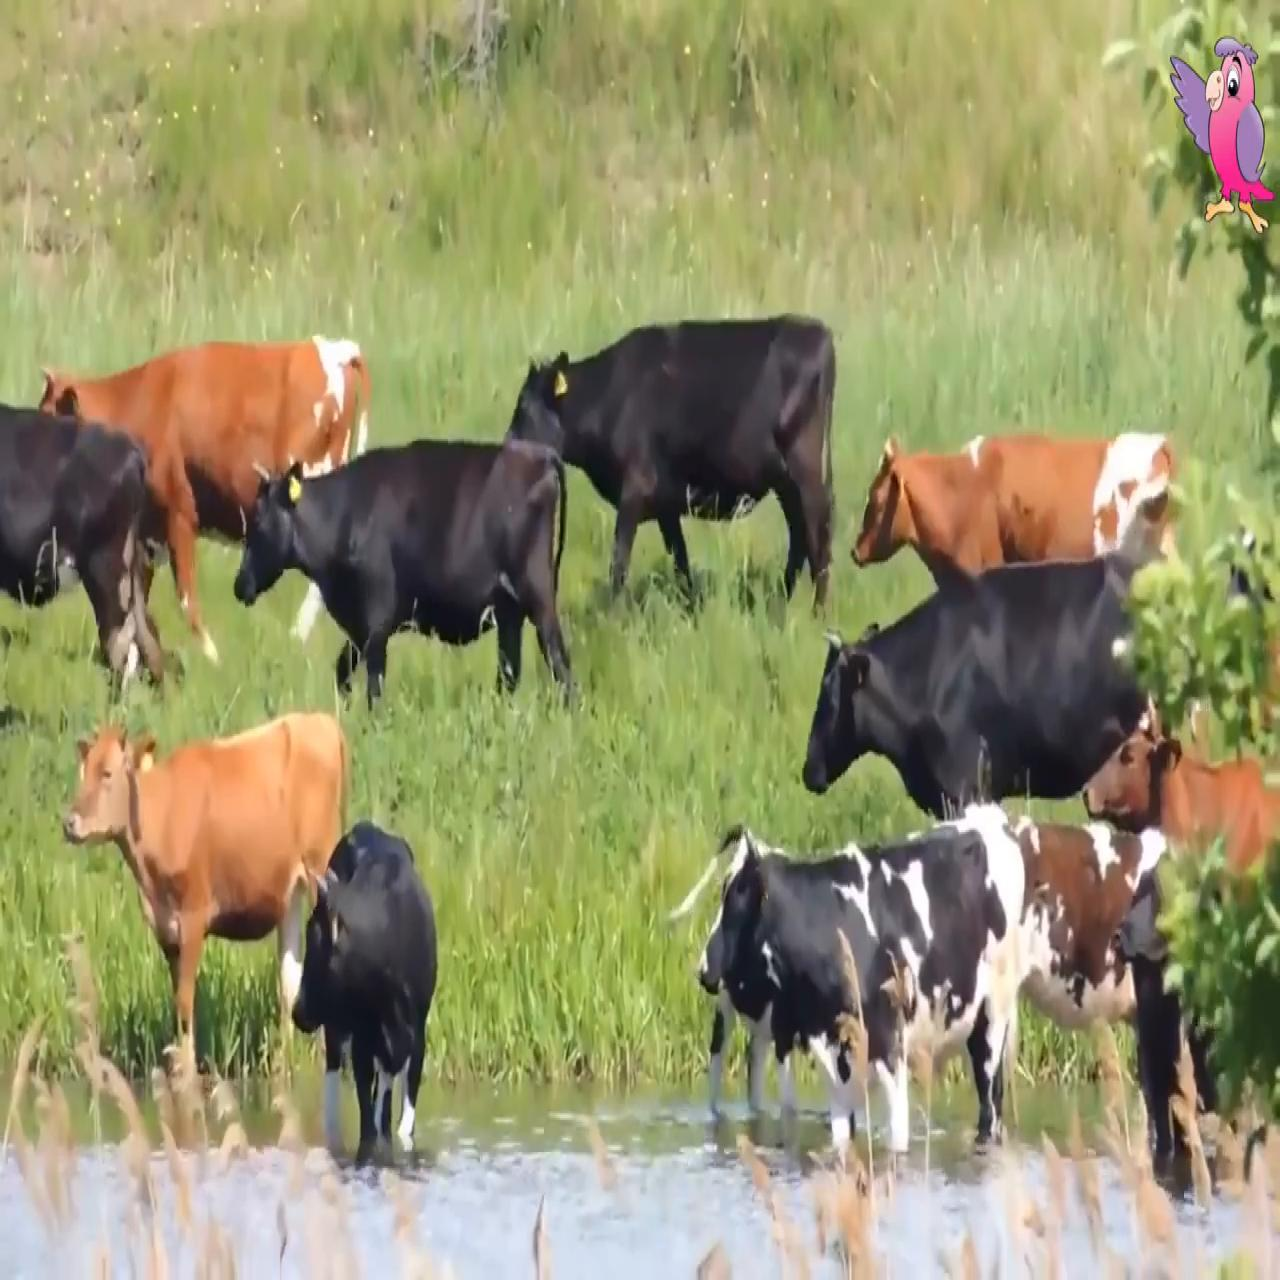cow: (669, 776, 1033, 1159), (872, 734, 1219, 1105), (41, 343, 374, 658), (64, 709, 350, 1055), (506, 314, 835, 607), (230, 435, 578, 704), (803, 565, 1153, 813), (852, 409, 1207, 631), (292, 823, 440, 1149), (0, 406, 142, 679), (1082, 723, 1280, 864)
